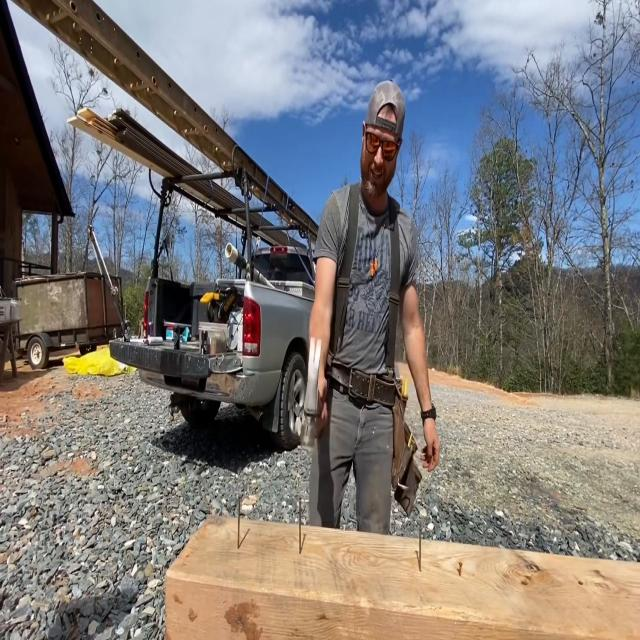hammer: (300, 340, 320, 446)
